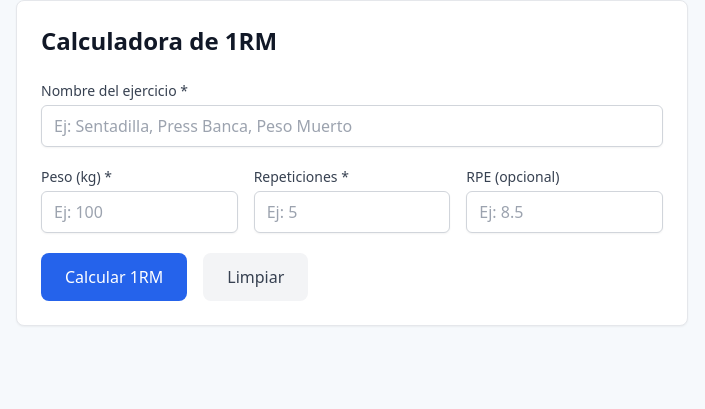
Test case: OneRMCalculator › shows error when reps is out of range (0)
Type "100" into the number field labelled "Peso (kg) *" at [139, 212], box [41,191,238,233]
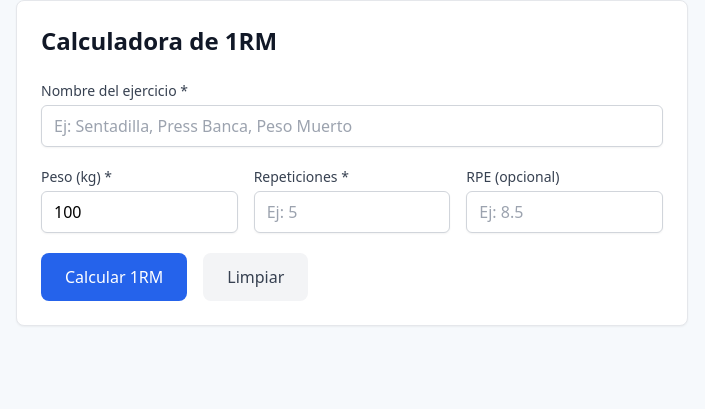
Type "0" into the number field labelled "Repeticiones *" at [352, 212], box [254,191,450,233]
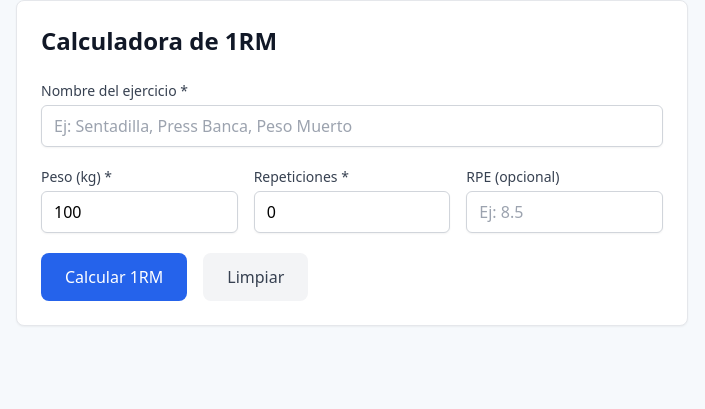
Submit the form with test id "onerm-form", box [41,81,663,301]
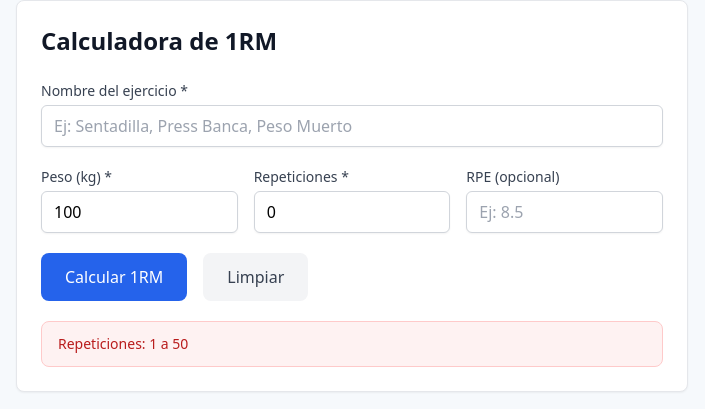
Expected: the text "Repeticiones: 1 a 50" is shown, [41,321,663,367]
